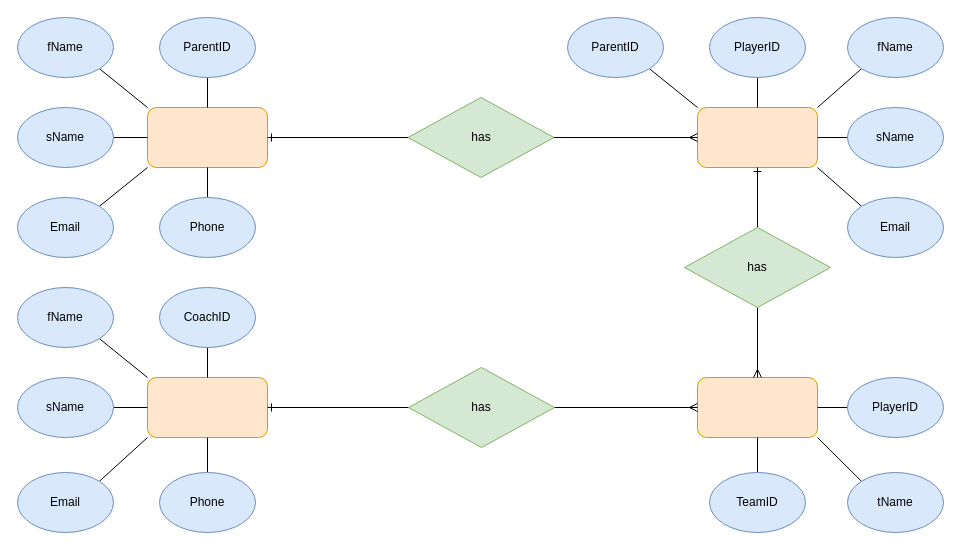
Some shapes in this 961 by 550 pixel diagram are drawn without their labels. Here are the shapes that lost their labels. From the top down, the centre of each, then its label:
At [207,137]: "Parents".
At [757,137]: "Players".
At [207,407]: "Coaches".
At [757,407]: "Teams".
